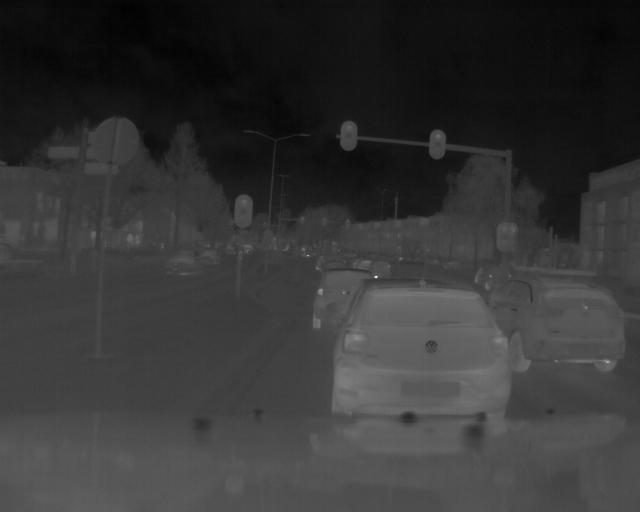car: (329, 275, 514, 417), (491, 272, 625, 371), (311, 268, 362, 330)
